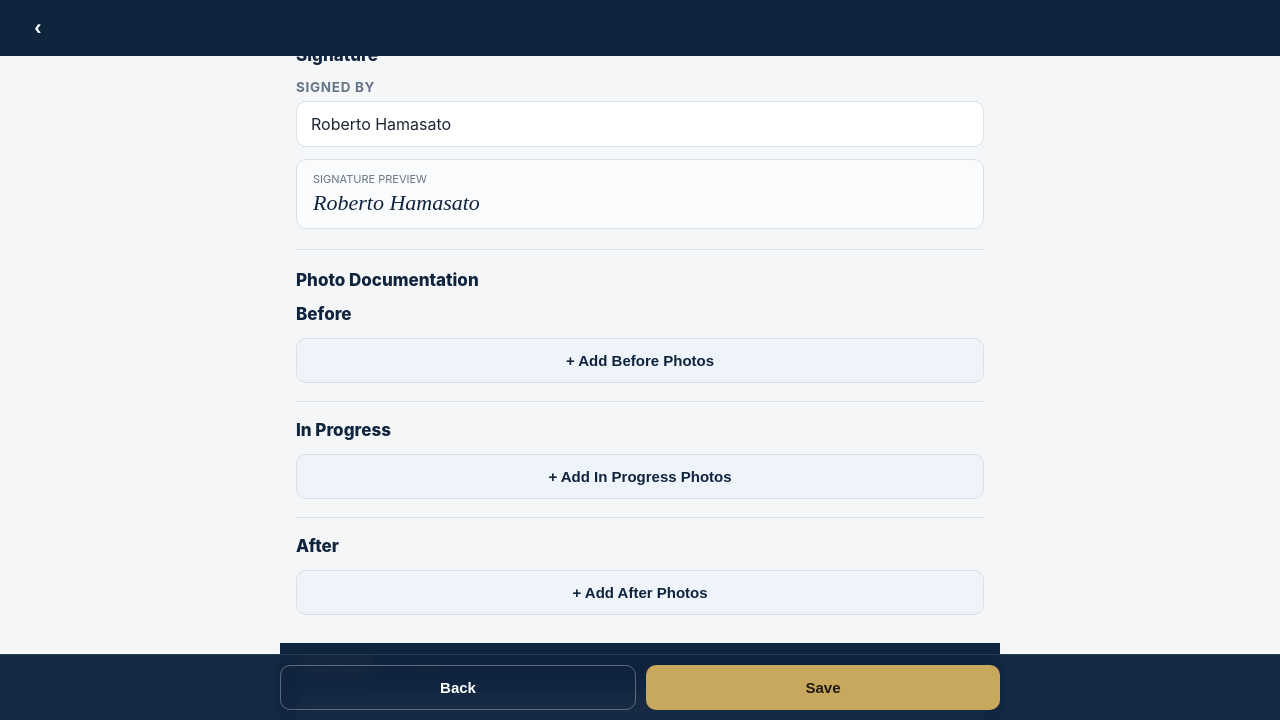
Scenario: ReportPage — photo sections › opens bottom sheet when Add Photos is clicked
(page scrolled)
Step 1. Click the button "+ Add Before Photos" → (640, 360), box [296,338,984,383]
(page scrolled)
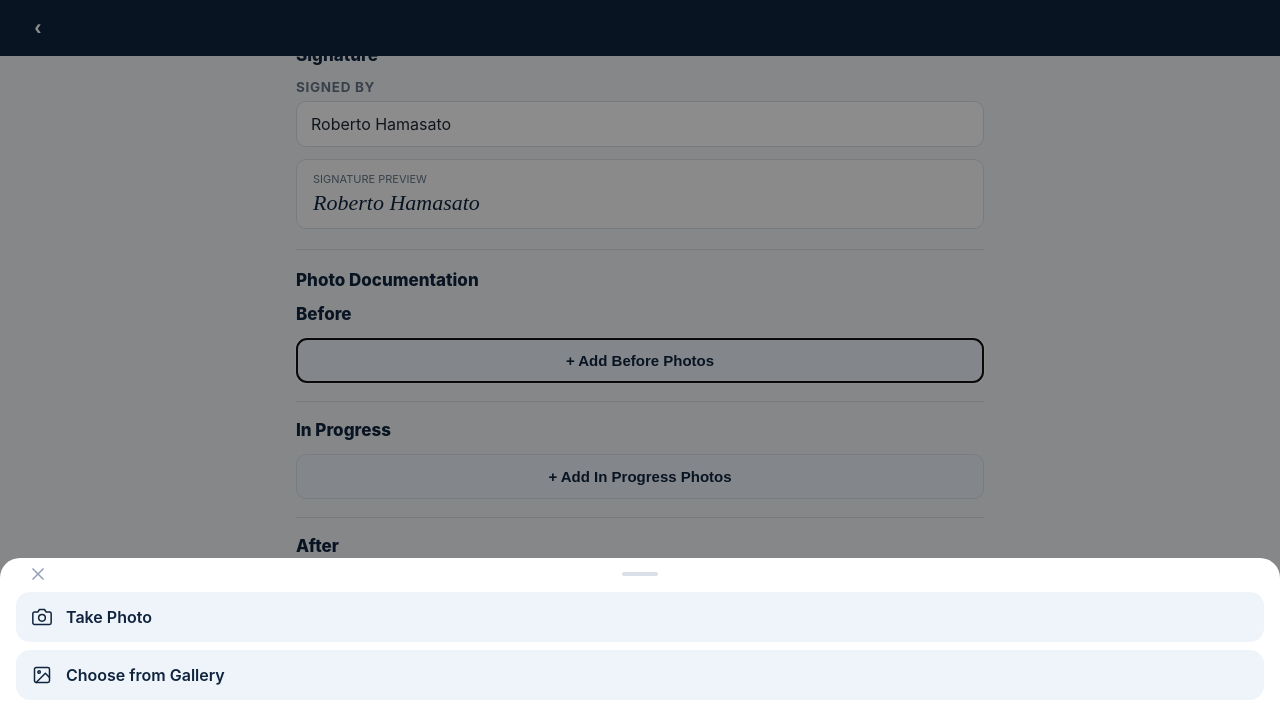
Check: the file field "Take Photo" is shown, box [16,592,1264,642]
Check: the file field "Choose from Gallery" is shown, box [16,650,1264,700]
